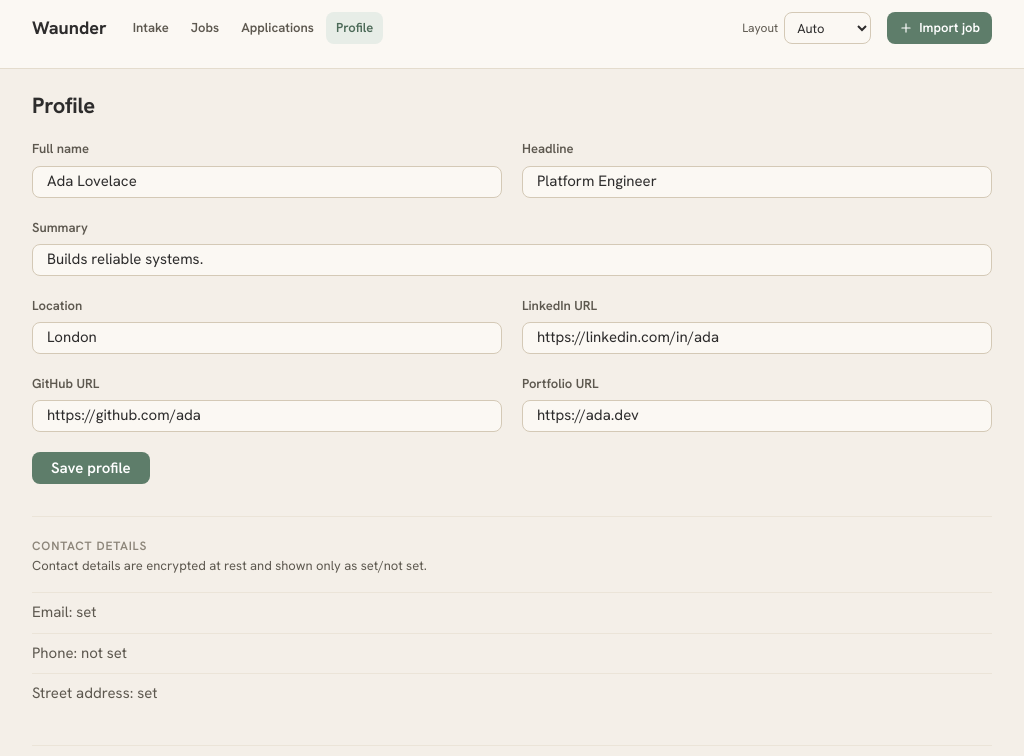
Scenario: profile save › reports a failed save once, keeps the typed values, and leaves the profile as Rails held it
The image size is (1024, 756).
Replace the text in the field labelled "Full name" with "Augusta Ada King" at x=267, y=182, box [32, 166, 502, 198]
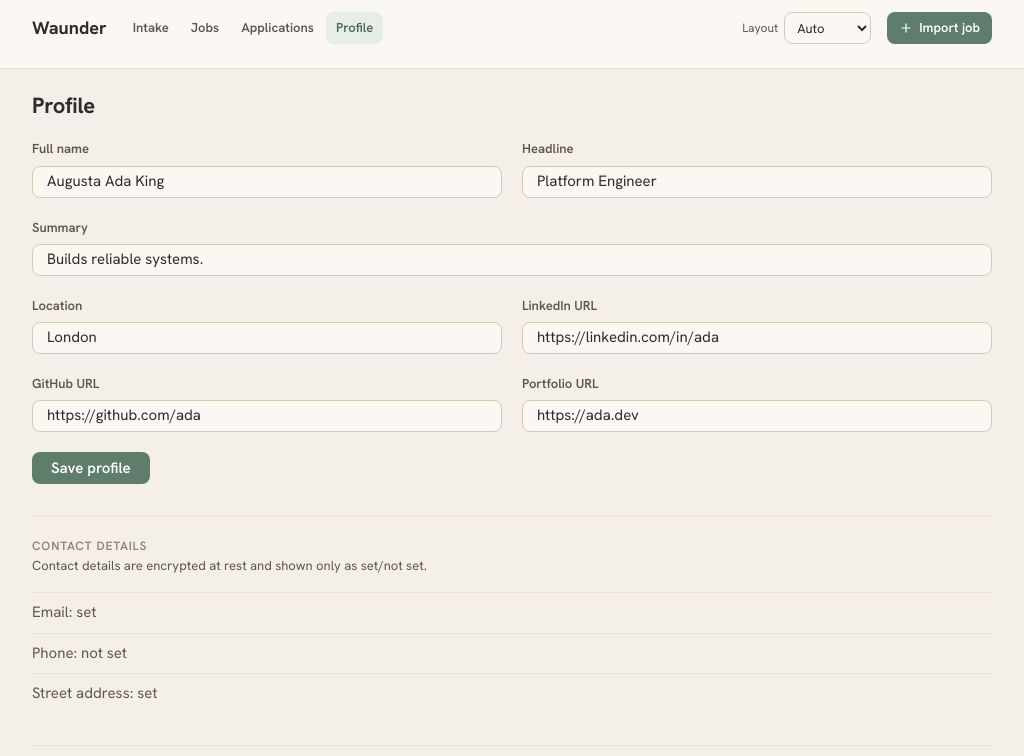
Click the button "Save profile" at x=91, y=468, box [32, 452, 150, 484]
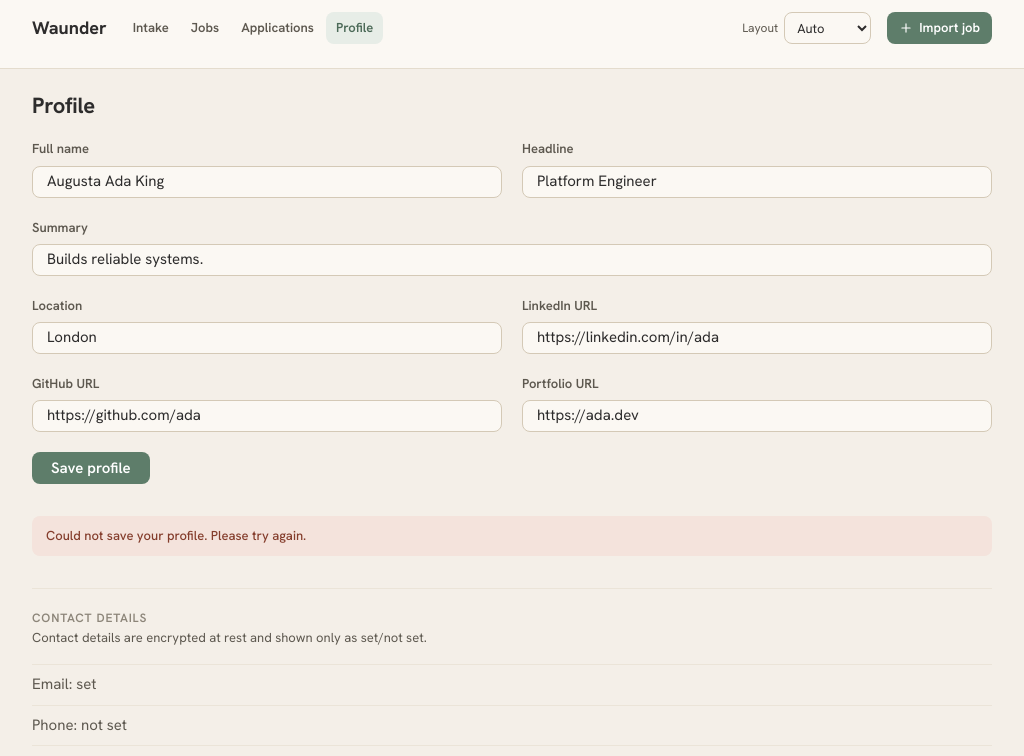
Expected: the message "Could not save your profile. Please try again." is shown, [32, 516, 992, 556]
